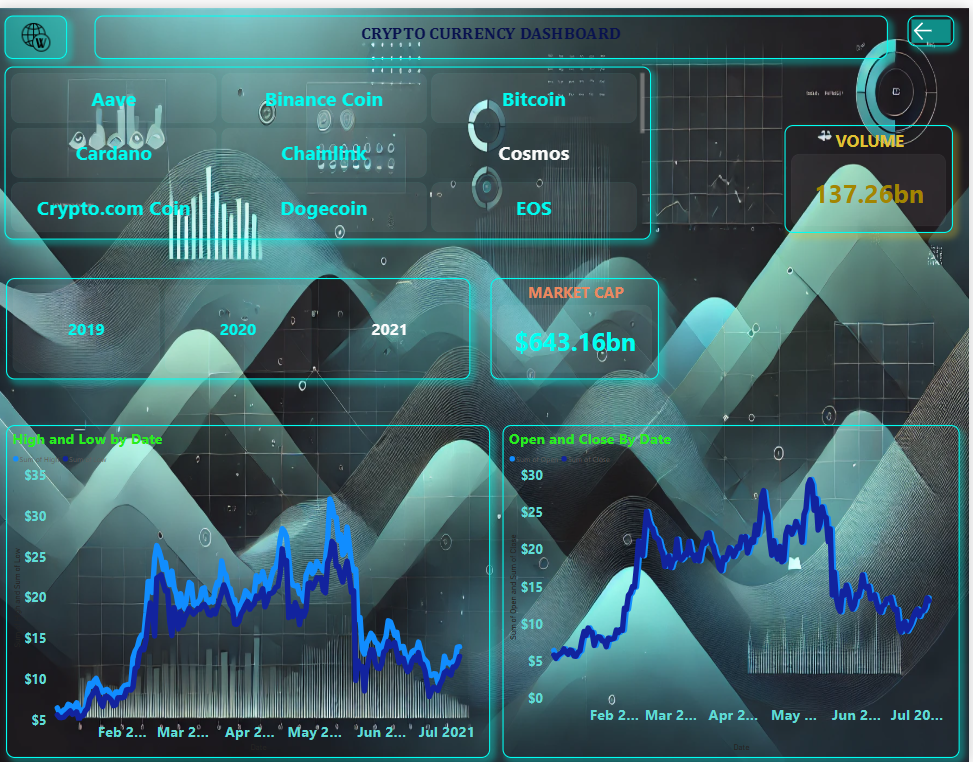

This screenshot's page, from the dashboard's own definition file:
{"tool":"powerbi","page":{"name":"Dashboard 2","canvas":[1800,1400],"ordinal":1},"visuals":[{"type":"advancedSlicerVisual","fields":{"Values":["CryptoData.Name"]},"box":[14.7,107.4,1197.1,320.6],"z":0},{"type":"advancedSlicerVisual","fields":{"Values":["CryptoData.Year"]},"box":[16.2,500,860.3,188.2],"z":1000},{"type":"lineChart","title":"High and Low by Date","fields":{"Category":["CryptoData.Date"],"Y":["Sum(CryptoData.High)","Sum(CryptoData.Low)"]},"box":[16.7,771.2,897,616.7],"z":2000},{"type":"actionButton","box":[1685.3,13.2,86.8,57.4],"z":3000},{"type":"image","box":[14.7,13.2,116.2,80.9],"z":4000},{"type":"textbox","box":[179.4,13.2,1469.1,80.9],"z":5000},{"type":"cardVisual","title":"MARKET  CAP","fields":{"Data":["Sum(CryptoData.Marketcap)"]},"box":[913.2,500,311.8,188.2],"z":6000},{"type":"cardVisual","title":"VOLUME","fields":{"Data":["Sum(CryptoData.Volume)"]},"box":[1457.4,216.2,311.8,200],"z":7000},{"type":"lineChart","title":"Open and Close By Date","fields":{"Category":["CryptoData.Date"],"Y":["Sum(CryptoData.Open)","Sum(CryptoData.Close)"]},"box":[936.4,771.2,847,616.7],"z":8000}]}

Visuals, with their boxes in screenshot pixels (x1, y1, x2, y2), scaled from the page's 1800x1400 canvas onto the 973x762 screenshot:
advancedSlicerVisual - CryptoData.Name: (x1=8, y1=58, x2=655, y2=233)
advancedSlicerVisual - CryptoData.Year: (x1=9, y1=272, x2=474, y2=375)
"High and Low by Date" lineChart: (x1=9, y1=420, x2=494, y2=755)
actionButton: (x1=911, y1=7, x2=958, y2=38)
image: (x1=8, y1=7, x2=71, y2=51)
textbox: (x1=97, y1=7, x2=891, y2=51)
"MARKET  CAP" cardVisual: (x1=494, y1=272, x2=662, y2=375)
"VOLUME" cardVisual: (x1=788, y1=118, x2=956, y2=227)
"Open and Close By Date" lineChart: (x1=506, y1=420, x2=964, y2=755)
